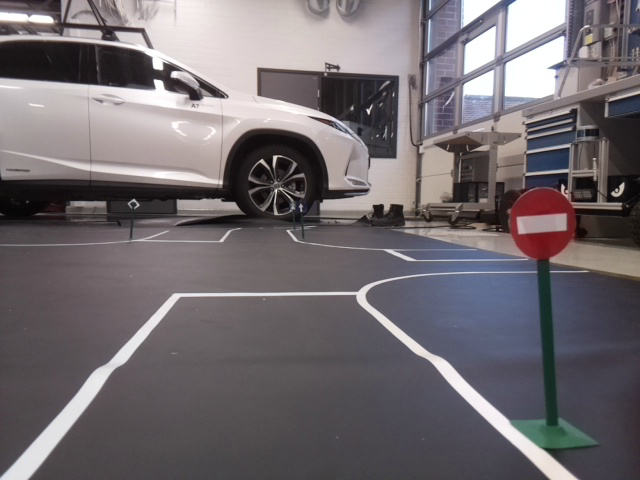NoEntry: (511, 188, 574, 258)
OneWay: (297, 202, 307, 212)
